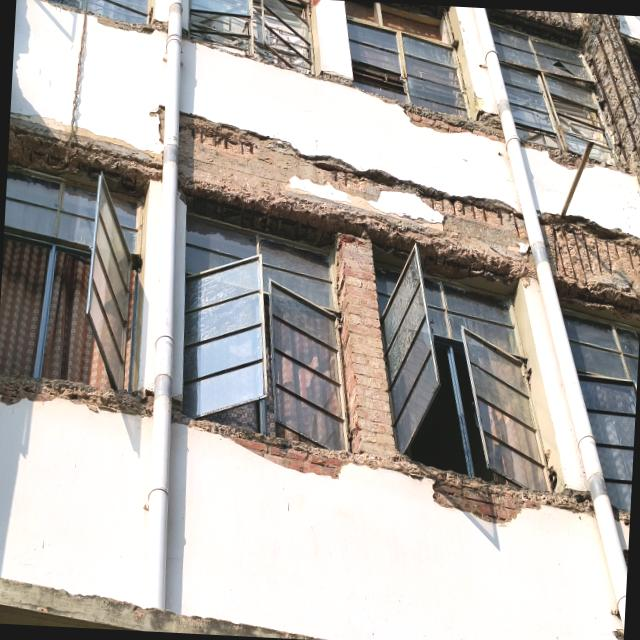peeling: (179, 140, 334, 204), (444, 216, 520, 257), (359, 173, 420, 197)
spalling: (189, 234, 596, 525), (265, 199, 527, 277), (8, 114, 162, 200), (581, 13, 640, 187), (545, 221, 640, 311), (0, 374, 152, 416), (417, 195, 527, 242), (398, 103, 505, 142), (181, 122, 267, 155), (508, 9, 583, 34), (521, 140, 582, 167), (335, 171, 361, 194)
